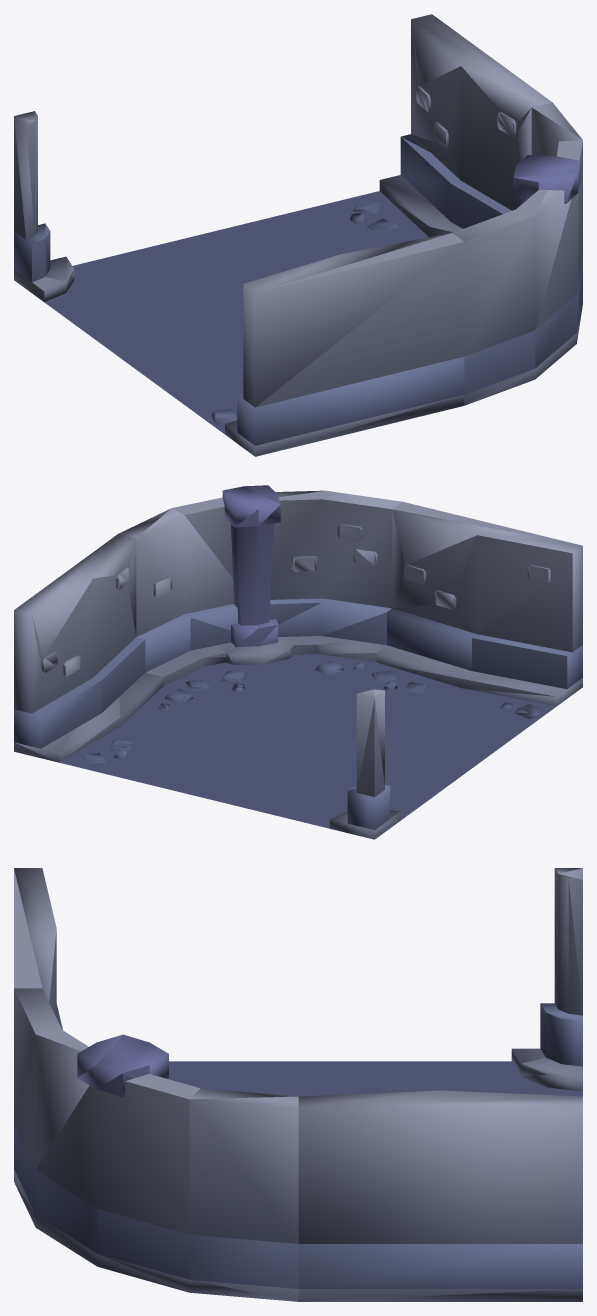
File: corridor-wide-corner_lev2.glb
3 views of the same model, one above another, from view 1: azimuth 30°, elevation 25°; view 2: azimuth 150°, elevation 25°; view 3: azimuth 270°, elevation 25° (orthographic). The views are drawn at different scales.
Parts seen in each view (by area): view 1: corridor-wide-corner_lev2; view 2: corridor-wide-corner_lev2; view 3: corridor-wide-corner_lev2.
Boxes of the visible parts, x1,y1,x2,y2 form: corridor-wide-corner_lev2: [14, 14, 582, 456]; corridor-wide-corner_lev2: [14, 485, 582, 839]; corridor-wide-corner_lev2: [14, 868, 582, 1301].
Size of the model in its own units: 8 by 3.13 by 8.
1 material, 1 textured.
